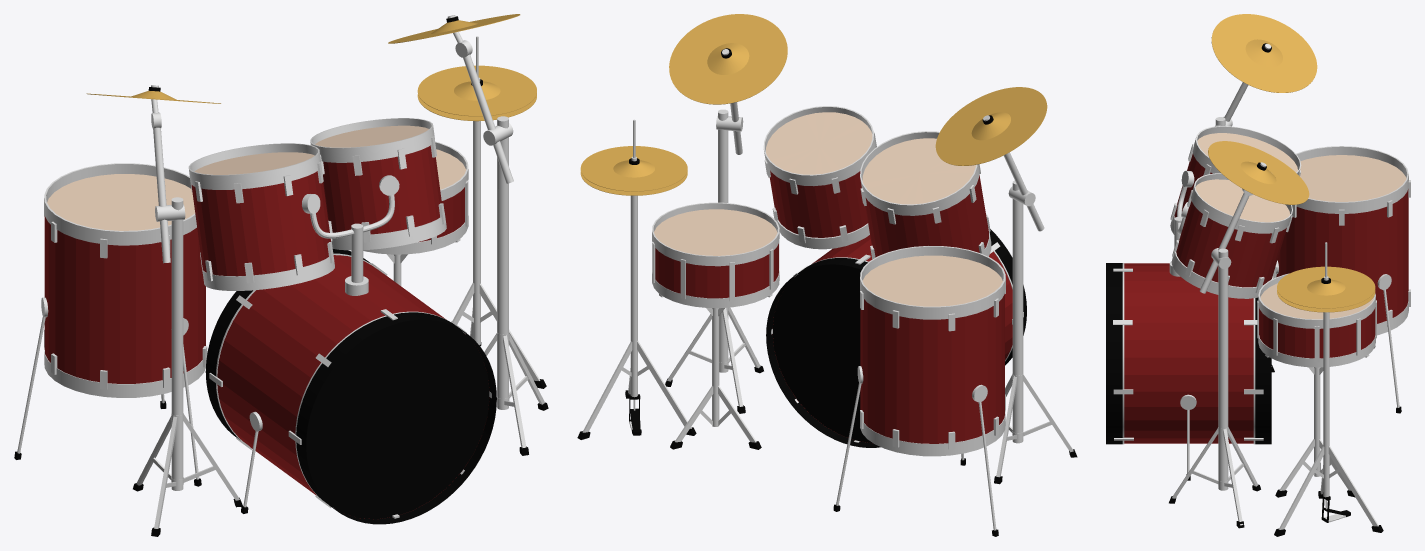
The model's file is batterie.obj.
3 views of the same model, side by side, from view 1: azimuth 30°, elevation 25°; view 2: azimuth 150°, elevation 25°; view 3: azimuth 270°, elevation 25° (orthographic). The views are drawn at different scales.
Parts seen in each view (by area): view 1: Grosse_caisse_devant, Tom_Tom_basse, Grosse_caisse, Tom_Tom_2, Tom_Tom_1, Peau_haut_2, Contour_devant, Cymbale_pedale, Contour_haut_2, Pied_centre_1, Contour_haut_1, Pied_centre (+18 smaller); view 2: Tom_Tom_basse, Grosse_caisse_derriere, Cymbale, Peau_haut_2, Cymbale_6, Peau_haut, Peau_haut_1, Tom_Tom_2, Tom_Tom_1, Peau_haut_3, Caisse_claire_bois, Contour_haut_2 (+18 smaller); view 3: Grosse_caisse, Tom_Tom_basse, Cymbale_6, Tom_Tom_1, Peau_haut_2, Cymbale, Caisse_claire_bois, Contour_devant, Cymbale_pedale, Contour_haut_2, Pied_centre, Peau_haut (+22 smaller).
Boxes of the visible parts, x1,y1,x2,y2 form: Grosse_caisse_devant: (306, 320, 489, 519); Tom_Tom_basse: (44, 216, 205, 383); Grosse_caisse: (217, 255, 489, 519); Tom_Tom_2: (191, 171, 330, 276); Tom_Tom_1: (323, 145, 441, 234); Peau_haut_2: (47, 174, 195, 230); Contour_devant: (296, 312, 496, 524); Cymbale_pedale: (417, 65, 536, 116); Contour_haut_2: (44, 163, 196, 245); Pied_centre_1: (171, 197, 183, 490); Contour_haut_1: (188, 143, 320, 189); Pied_centre: (497, 116, 508, 409); Tom_Tom_basse: (860, 294, 1004, 443); Grosse_caisse_derriere: (773, 264, 872, 442); Cymbale: (669, 14, 787, 104); Peau_haut_2: (862, 255, 1002, 306); Cymbale_6: (935, 87, 1047, 165); Peau_haut: (766, 112, 872, 174); Peau_haut_1: (862, 138, 975, 204); Tom_Tom_2: (865, 175, 988, 257); Tom_Tom_1: (769, 170, 867, 237); Peau_haut_3: (654, 209, 777, 255); Caisse_claire_bois: (655, 243, 778, 298); Contour_haut_2: (860, 246, 1005, 319); Grosse_caisse: (1124, 263, 1253, 443); Tom_Tom_basse: (1276, 189, 1408, 323); Cymbale_6: (1211, 14, 1317, 92); Tom_Tom_1: (1176, 200, 1286, 287); Peau_haut_2: (1300, 155, 1406, 201); Cymbale: (1208, 141, 1309, 204); Caisse_claire_bois: (1259, 307, 1375, 358); Contour_devant: (1106, 263, 1122, 444); Cymbale_pedale: (1277, 266, 1375, 308); Contour_haut_2: (1296, 146, 1408, 213); Pied_centre: (1218, 248, 1228, 490); Peau_haut: (1195, 179, 1290, 222).
Bounding box in the file's own units: 141 × 116 × 92.84.
